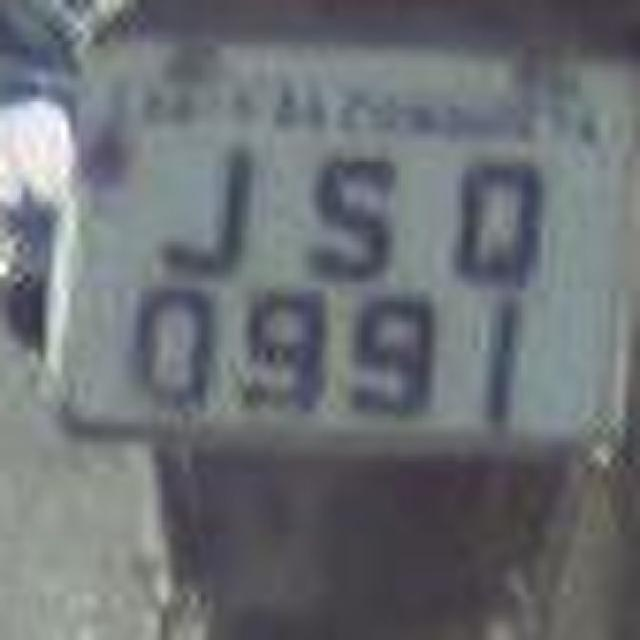1: (460, 280, 535, 412)
9: (325, 268, 460, 428), (220, 268, 348, 428)
J: (140, 125, 265, 300)
O: (432, 140, 560, 292)
S: (280, 144, 412, 288)
